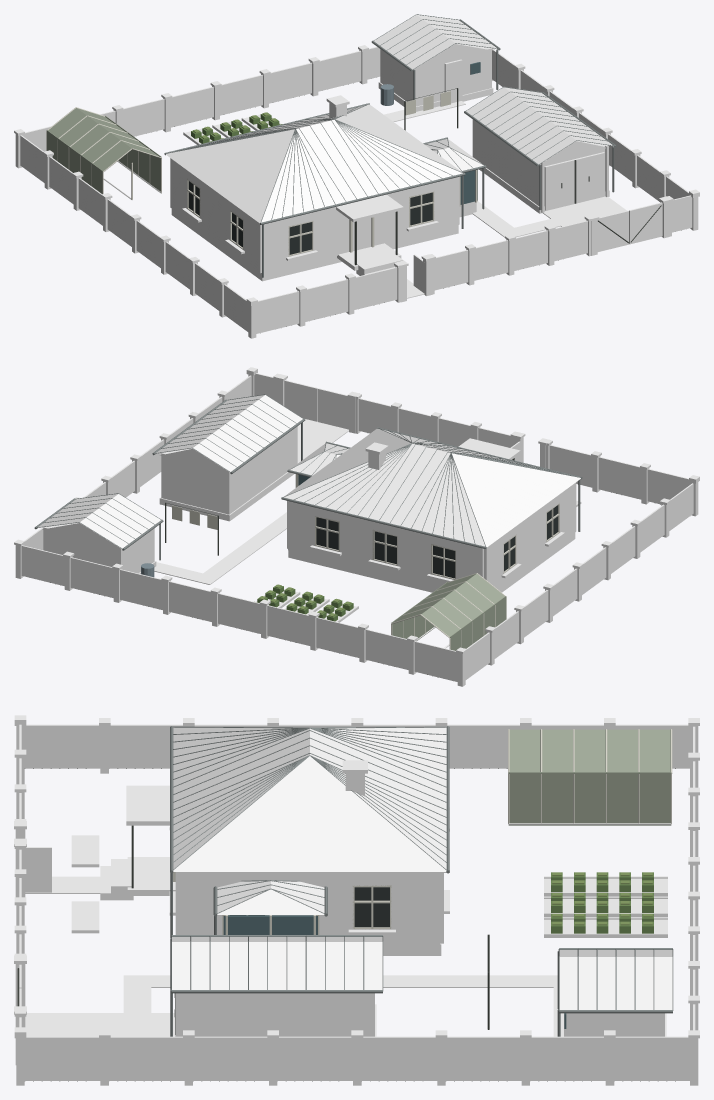
3 views of the same model, one above another, from view 1: azimuth 30°, elevation 25°; view 2: azimuth 150°, elevation 25°; view 3: azimuth 270°, elevation 25° (orthographic). The views are drawn at different scales.
Visible parts, largest first — view 1: ParcelGeometry.019, SummerPlanting.017; view 2: ParcelGeometry.019, SummerPlanting.017; view 3: ParcelGeometry.019, SummerPlanting.017.
Part boxes in pixels (box(x1,y1,x2,y2)): ParcelGeometry.019: box(14, 14, 699, 338); SummerPlanting.017: box(191, 91, 450, 143); ParcelGeometry.019: box(14, 367, 699, 686); SummerPlanting.017: box(172, 505, 353, 621); ParcelGeometry.019: box(14, 715, 699, 1085); SummerPlanting.017: box(551, 872, 653, 933).
Size of the model in its own units: 23.08 by 5.06 by 21.1.
